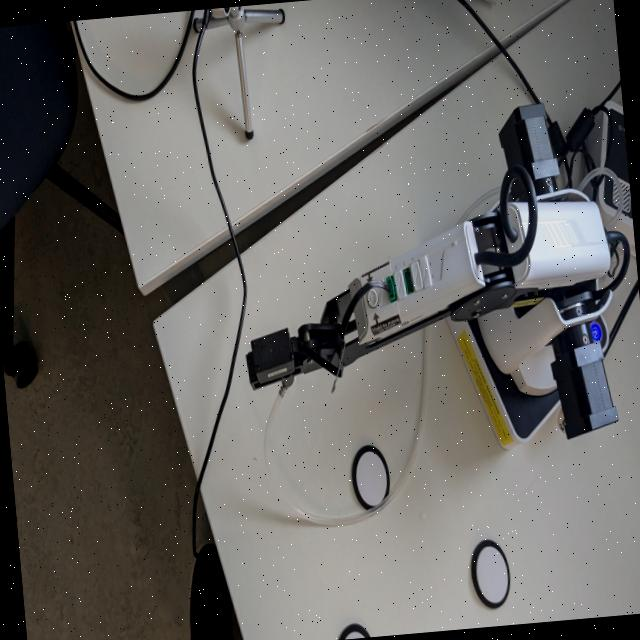Robot-end-effector-HF8z: (238, 318, 308, 404)
